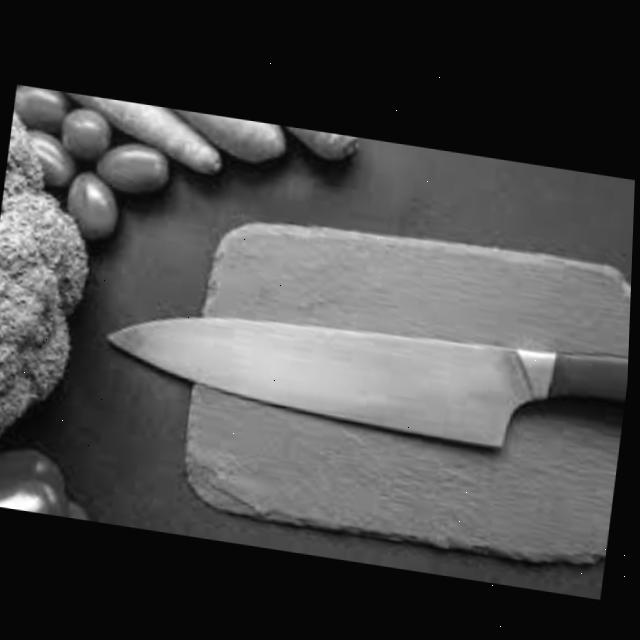knife: (98, 268, 632, 457)
